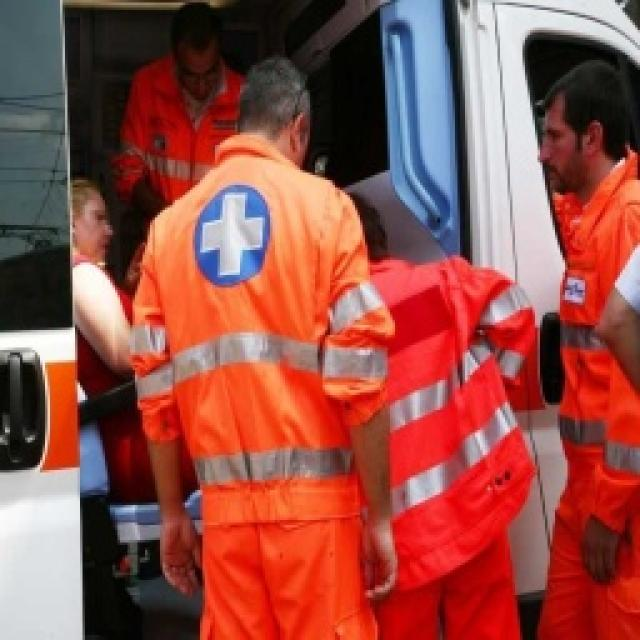ambulance: (130, 85, 635, 640), (0, 330, 78, 635)
